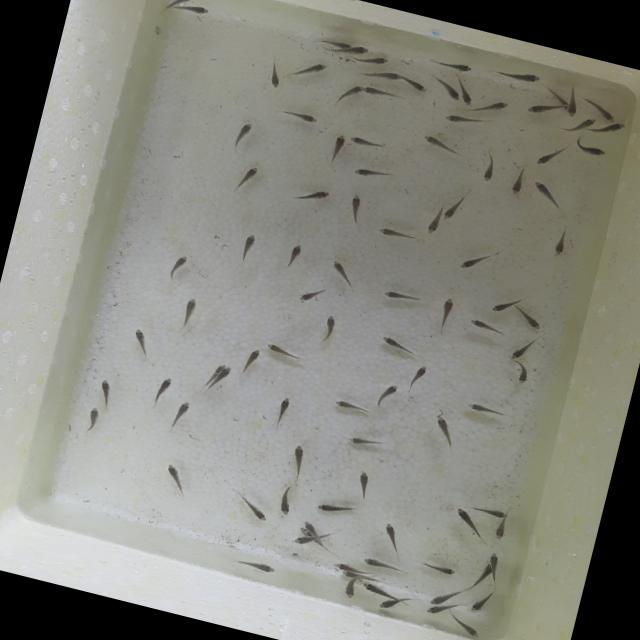fingerling: (310, 492, 366, 524), (231, 490, 276, 528), (376, 282, 430, 312), (284, 53, 330, 88), (426, 414, 466, 454), (529, 136, 570, 175), (491, 63, 547, 91), (157, 460, 195, 500), (322, 256, 362, 294), (418, 131, 467, 162), (454, 244, 496, 279), (376, 333, 426, 362), (440, 105, 490, 134), (527, 176, 567, 212), (426, 52, 479, 79), (283, 442, 317, 484), (228, 160, 262, 202), (429, 292, 460, 338), (375, 519, 411, 558), (262, 338, 310, 366), (348, 158, 396, 186), (161, 248, 195, 287), (290, 180, 334, 210), (230, 552, 280, 578), (461, 398, 513, 423), (225, 115, 258, 154), (350, 466, 382, 506), (145, 370, 177, 410), (372, 220, 419, 247), (166, 394, 196, 436), (328, 78, 363, 114), (415, 556, 463, 582), (358, 552, 406, 578), (568, 134, 612, 162), (343, 428, 389, 454), (506, 329, 540, 364), (438, 188, 469, 226), (274, 478, 302, 520), (232, 228, 262, 267), (174, 292, 203, 332), (326, 396, 376, 419), (359, 62, 403, 88), (266, 392, 296, 430), (371, 378, 403, 413), (402, 359, 432, 396), (522, 95, 560, 124), (314, 312, 344, 348), (476, 148, 503, 188), (278, 238, 308, 274), (464, 314, 508, 338), (346, 134, 394, 156), (447, 613, 486, 640), (341, 190, 368, 229), (296, 280, 329, 310), (262, 54, 288, 92), (547, 226, 574, 262), (360, 83, 404, 105), (468, 585, 496, 619), (127, 326, 155, 360), (324, 130, 349, 168), (94, 374, 120, 410), (514, 306, 547, 334), (505, 163, 530, 199), (237, 344, 265, 376), (280, 108, 322, 129), (477, 94, 513, 118), (563, 84, 585, 122), (79, 403, 103, 437), (509, 360, 536, 390), (470, 504, 512, 522), (332, 560, 371, 578), (400, 75, 431, 96), (362, 52, 393, 72), (448, 503, 472, 527), (338, 577, 361, 602), (487, 296, 513, 318), (345, 41, 374, 60), (360, 580, 390, 598), (439, 82, 462, 105), (420, 215, 442, 239), (457, 85, 479, 107), (187, 2, 215, 19), (490, 519, 509, 544), (577, 113, 598, 134), (608, 118, 629, 138), (484, 550, 502, 572), (424, 602, 446, 620), (597, 107, 619, 125), (376, 597, 397, 614), (218, 363, 234, 382), (290, 533, 309, 548), (428, 592, 445, 608), (300, 518, 318, 532), (173, 0, 197, 7)
